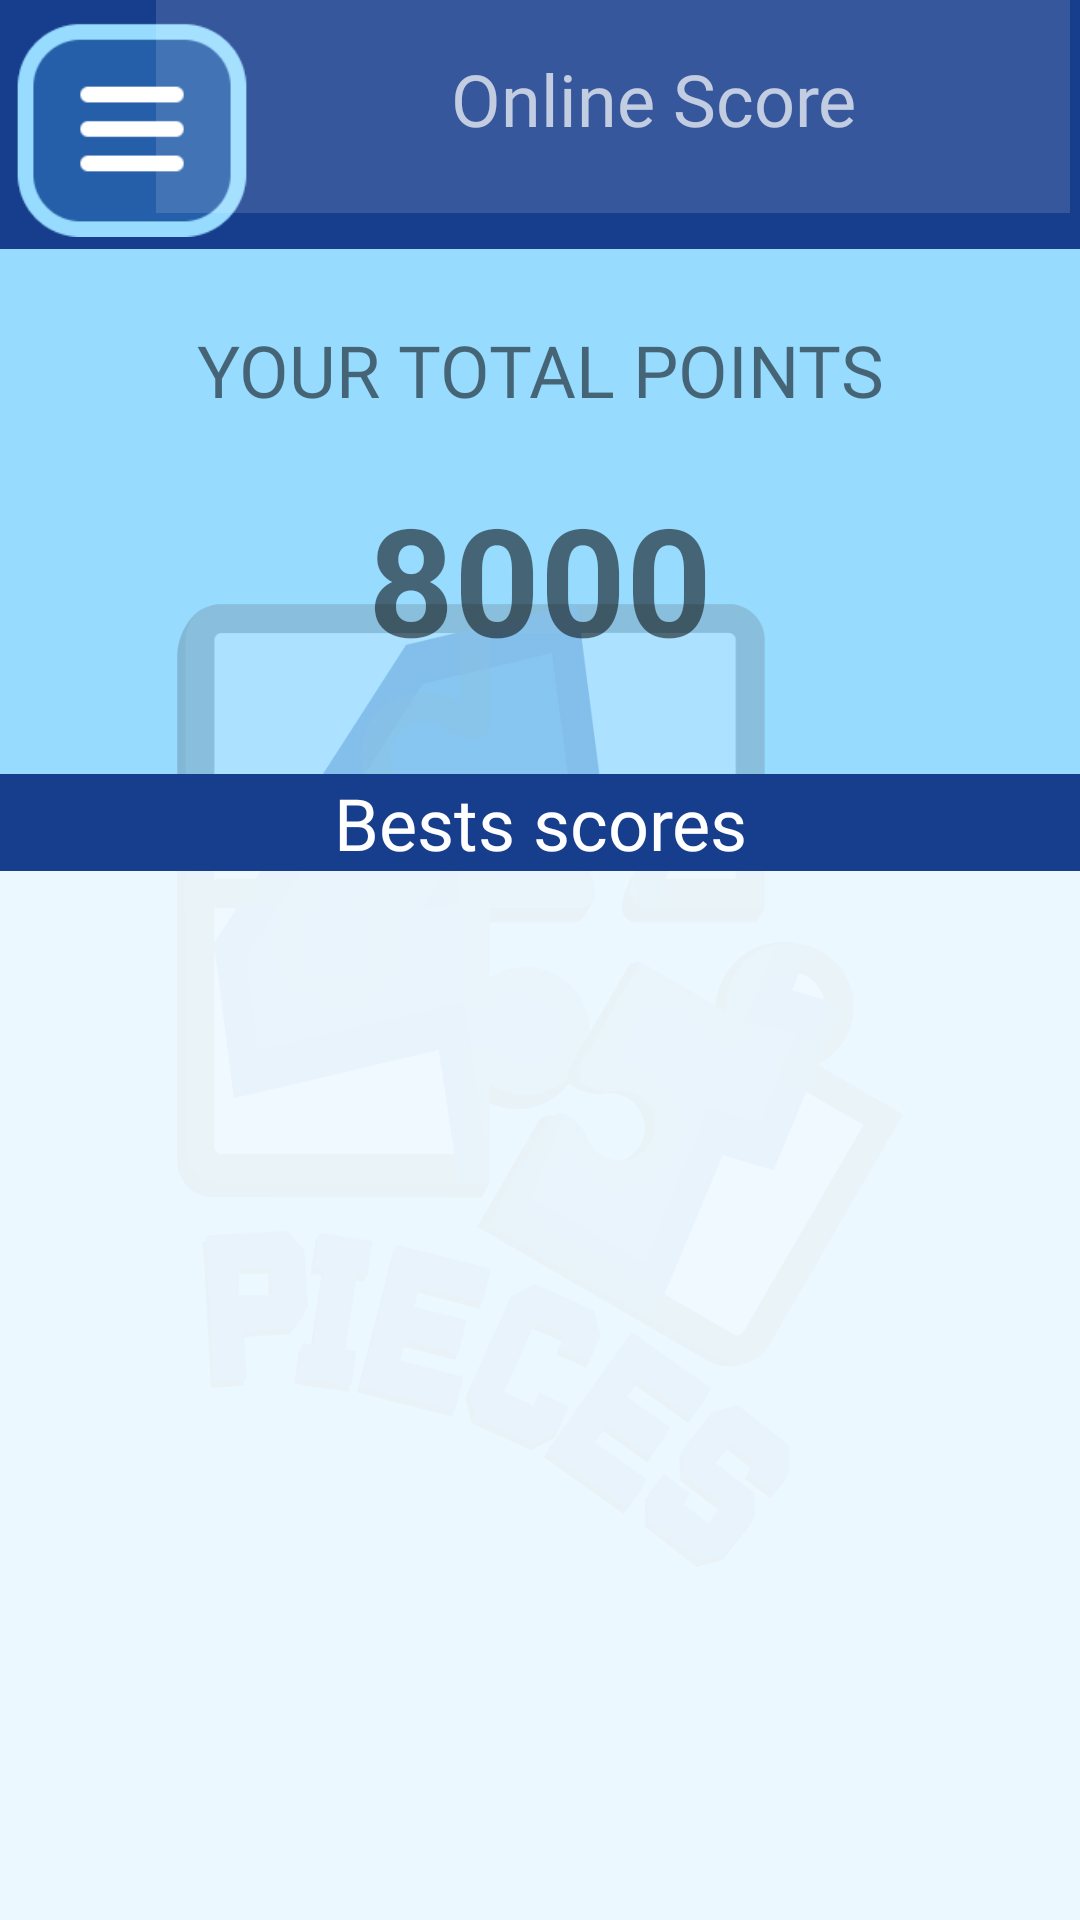

Where to tap for icons on this 1080x1920 app screen, as (x,y):
menubtn: (132,129)
